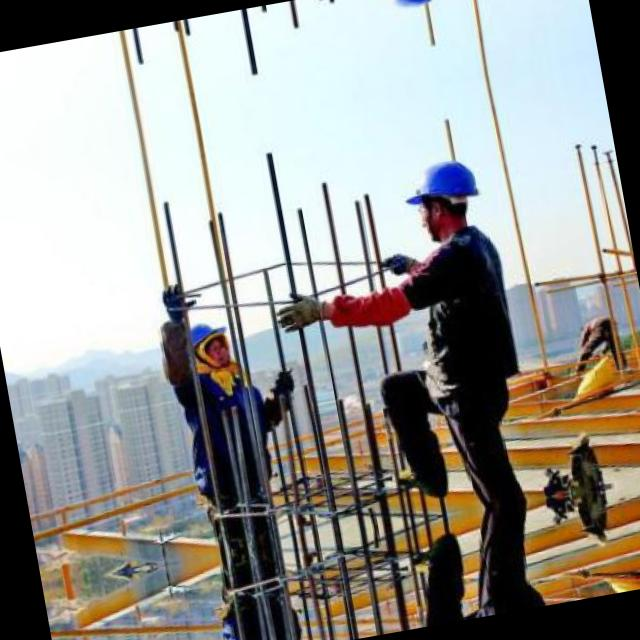helmet: (400, 148, 490, 245), (187, 314, 234, 378), (369, 0, 451, 21)
